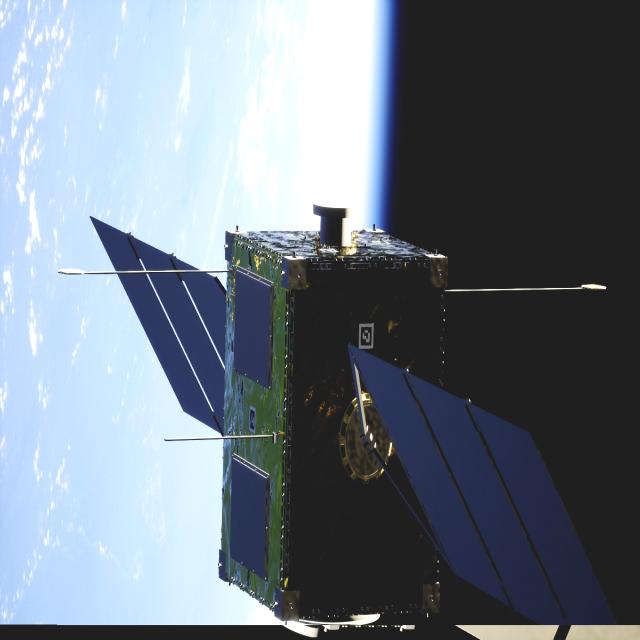medium_debris: (92, 207, 617, 640)
